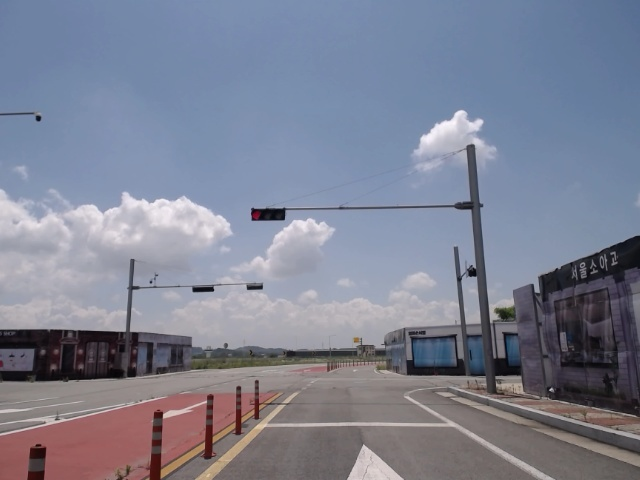red_3: (250, 207, 287, 220)
